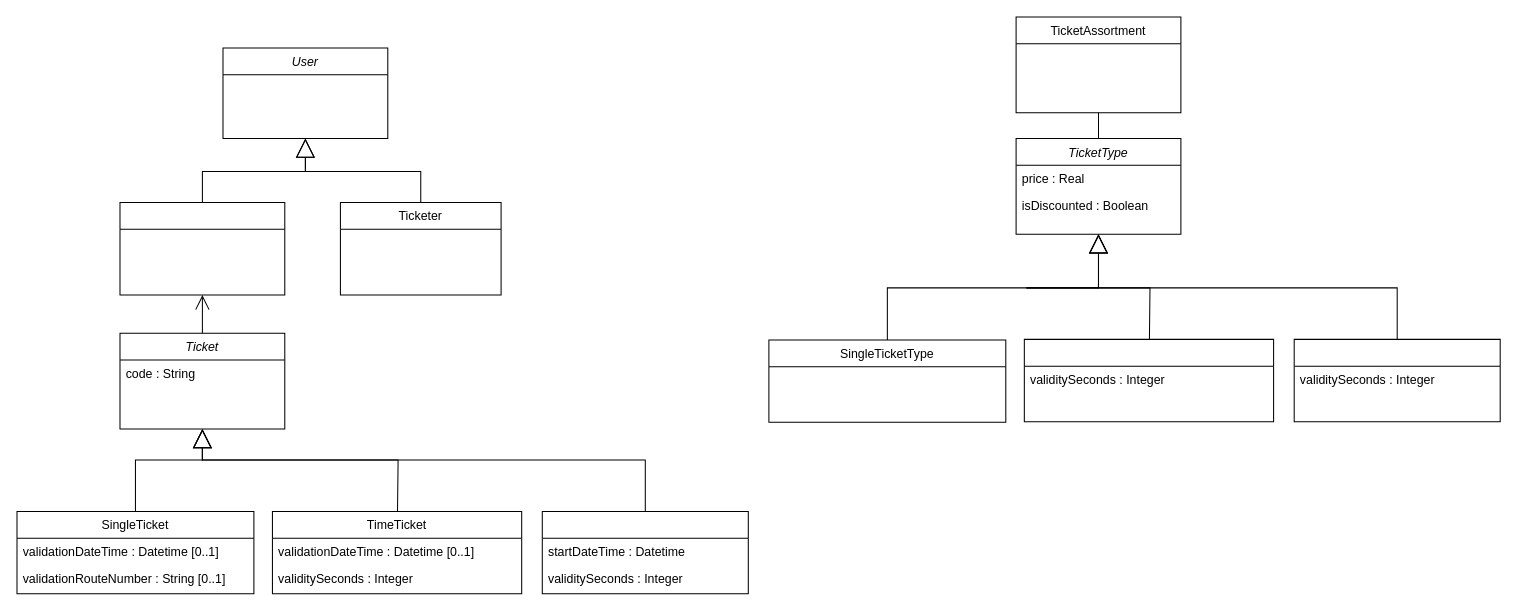
Some shapes in this 1517 by 611 pixel diagram are drawn without their labels. Each missing label, with the box of its shape:
LongtimeTicket: (541, 510, 748, 594)
LongtimeTicketType: (1293, 338, 1500, 422)
Passenger: (119, 201, 285, 295)
TimeTicketType: (1023, 338, 1274, 422)
